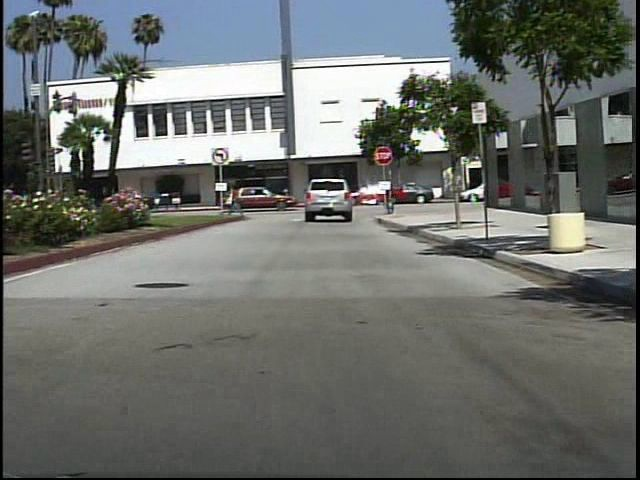person: (228, 180, 247, 218), (261, 180, 277, 207), (388, 174, 394, 215)
